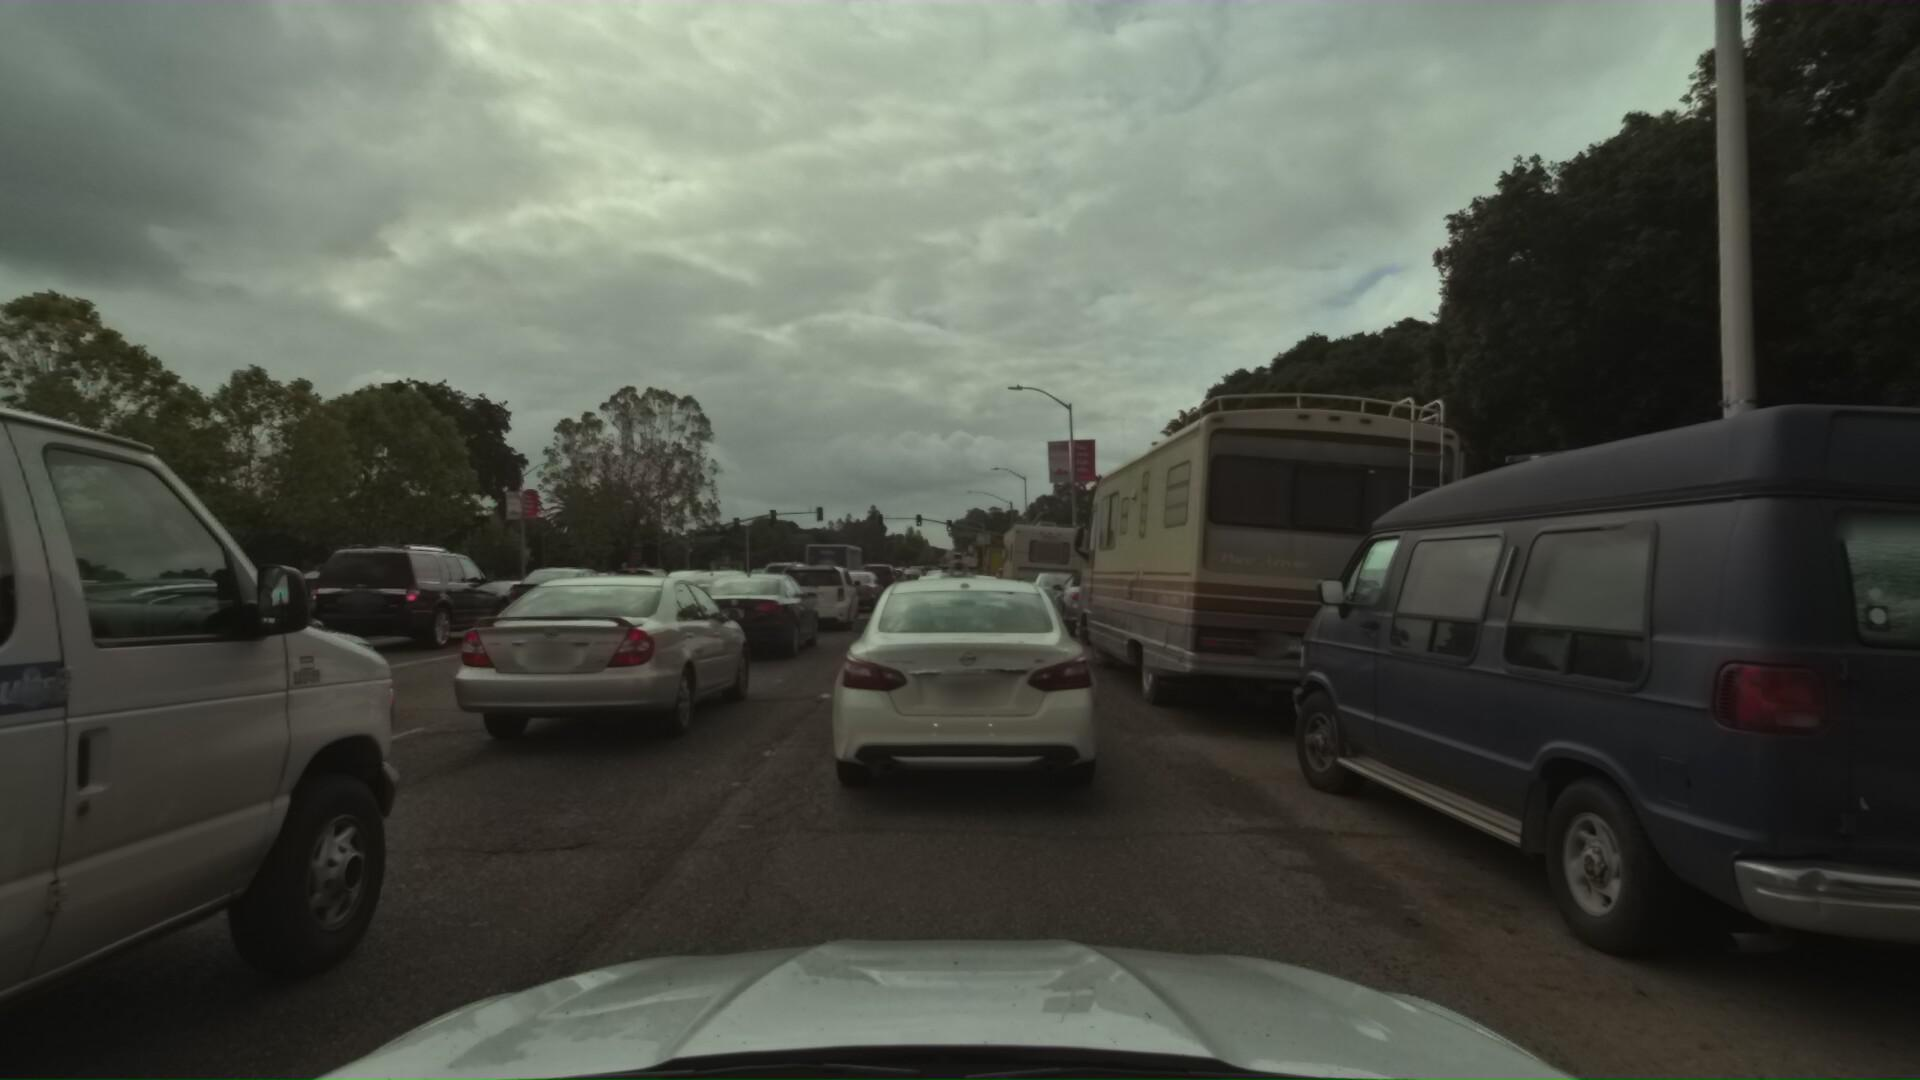bus: (803, 539, 866, 603)
car: (1269, 369, 1920, 1080), (0, 572, 406, 802), (822, 560, 1110, 822), (431, 558, 754, 767), (301, 541, 531, 659), (885, 545, 1036, 680), (676, 568, 820, 666), (500, 556, 632, 624), (1048, 566, 1149, 644), (770, 558, 862, 633), (667, 563, 766, 622), (1022, 564, 1097, 626), (603, 556, 690, 609), (910, 563, 978, 629), (465, 574, 546, 615), (655, 558, 732, 600), (822, 566, 885, 615), (914, 566, 968, 615), (758, 559, 814, 600), (852, 559, 899, 603), (872, 564, 909, 599), (899, 564, 924, 587)
other_vehicle: (1062, 361, 1486, 756), (998, 509, 1096, 611)
truck: (981, 537, 1033, 589)
